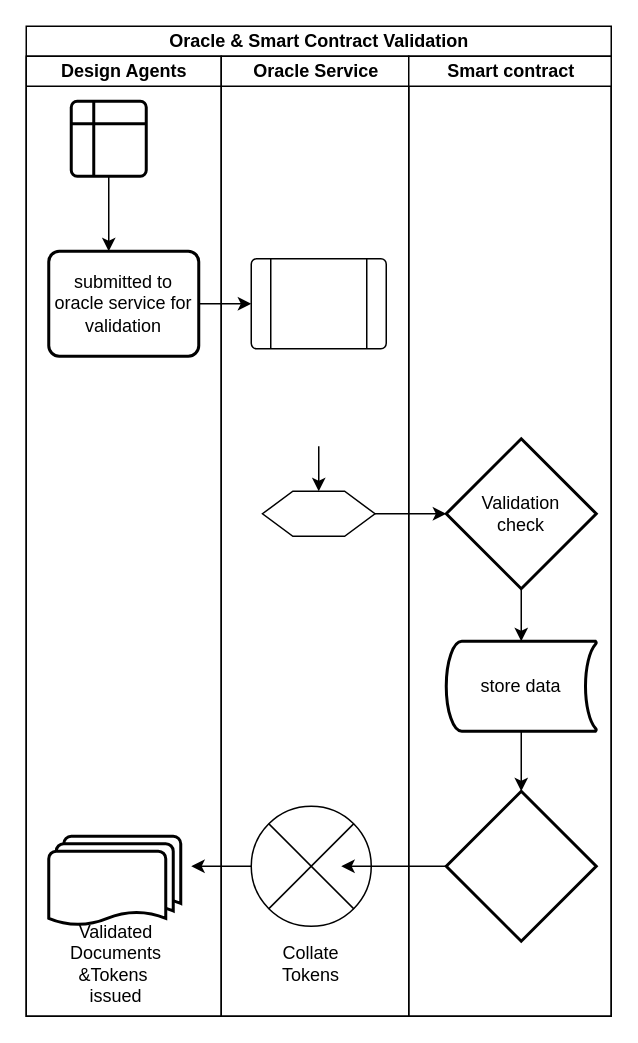
Some shapes in this 638 by 1043 pixel diagram are drawn without their labels. The centre of each missing label's shape, as x and y in pixels:
"authentication & completion check" goes at point (318, 303).
"Issue Token" goes at point (520, 865).
"Transaction Forming" goes at point (318, 513).
